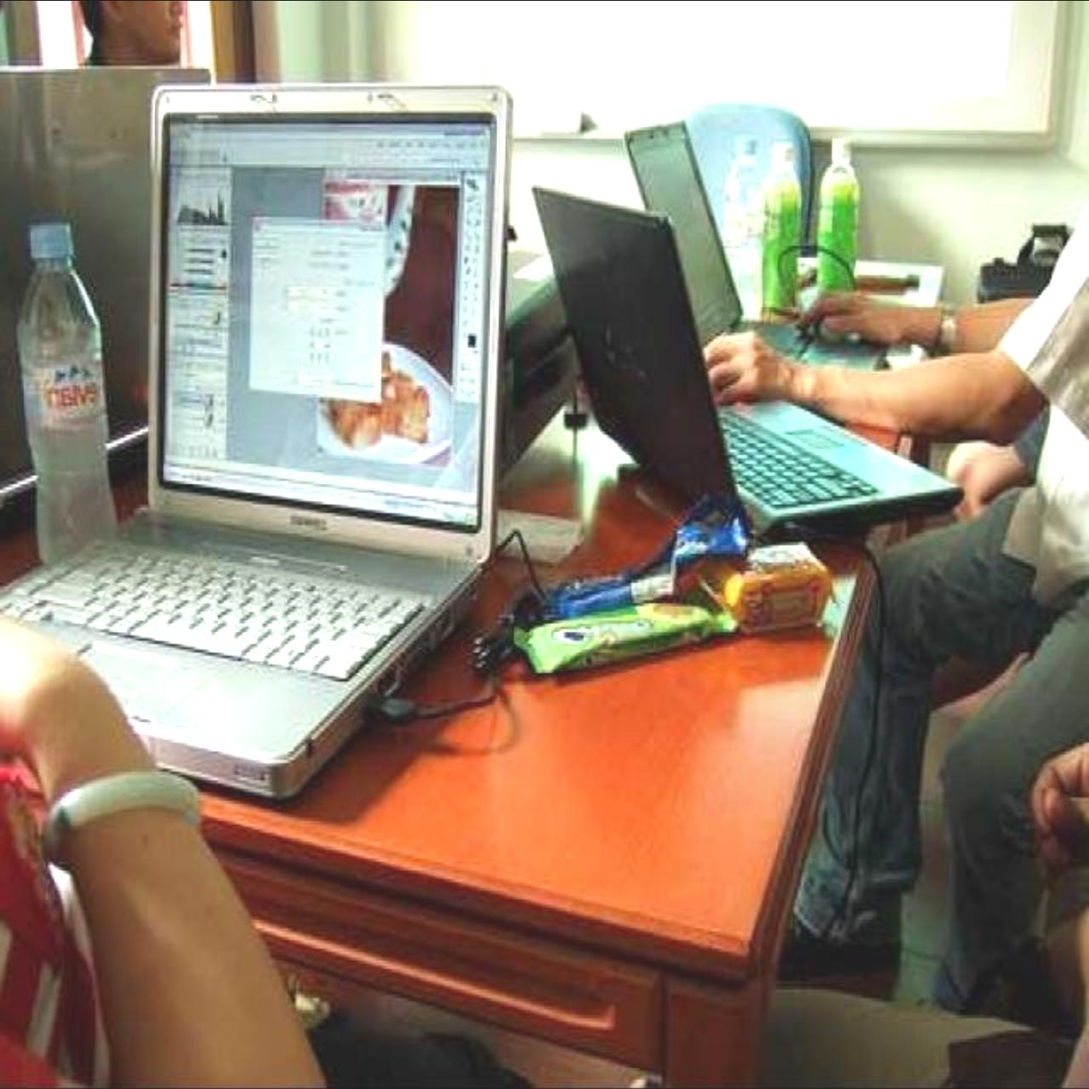laptop: (2, 100, 516, 778), (530, 175, 961, 560)
